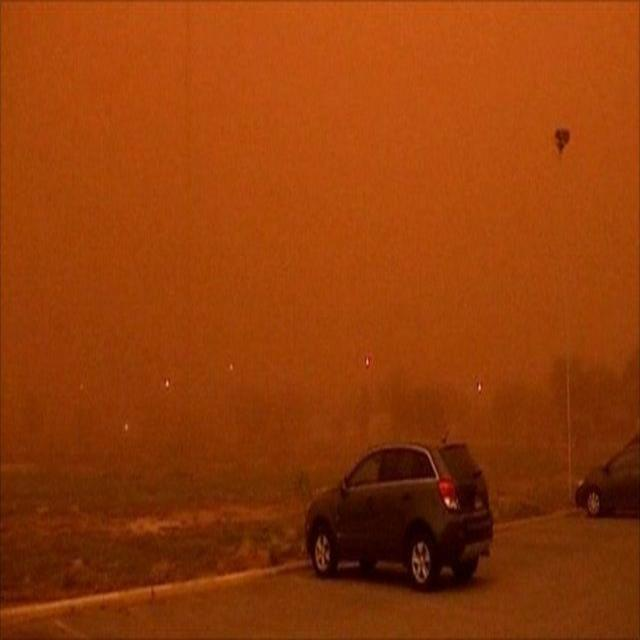car: (304, 440, 496, 590), (574, 427, 640, 518)
